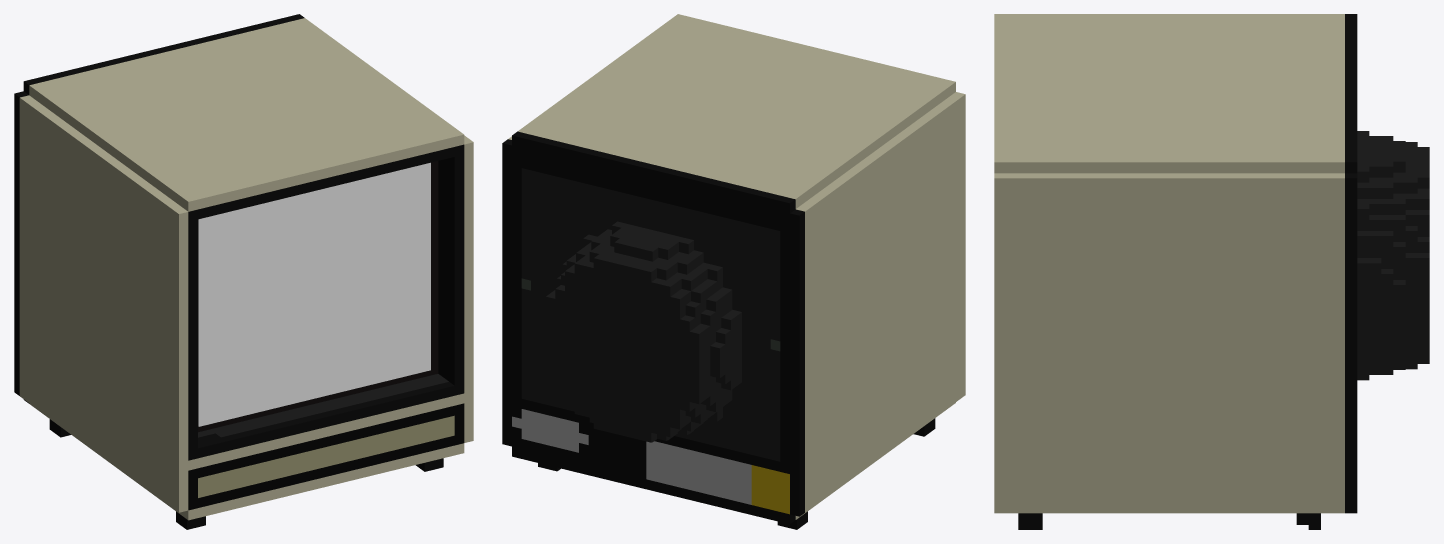
File: scre22en.fbx
3 renders of one model, left to right at view 1: azimuth 30°, elevation 25°; view 2: azimuth 150°, elevation 25°; view 3: azimuth 270°, elevation 25°, orthographic. The views are drawn at different scales.
Parts seen in each view (by area): view 1: SpiderScreen_off, Cube.007; view 2: SpiderScreen_off; view 3: SpiderScreen_off.
Part boxes in pixels (<box>): SpiderScreen_off: <box>14,14,473,529</box>; Cube.007: <box>198,162,430,426</box>; SpiderScreen_off: <box>502,14,965,529</box>; SpiderScreen_off: <box>994,14,1429,529</box>.
Size of the model in its own units: 3100 by 3400 by 3600.
